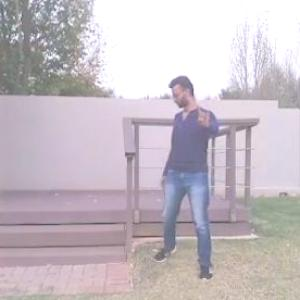takeoff-hand: (193, 97, 219, 130)
